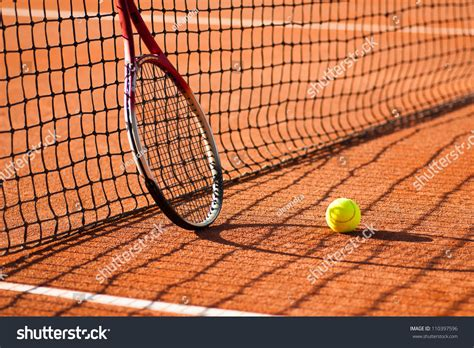tennis_ball: (326, 198, 361, 233)
